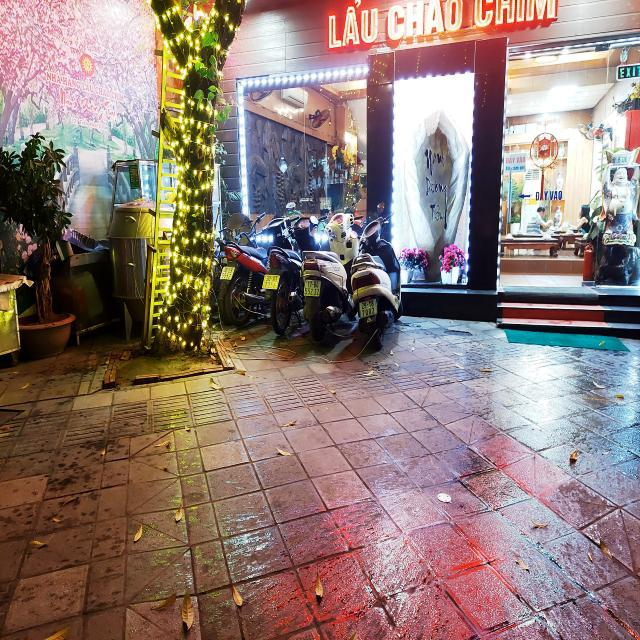license_plate: (358, 298, 379, 321), (304, 279, 323, 299), (262, 274, 282, 292), (220, 266, 238, 283)
